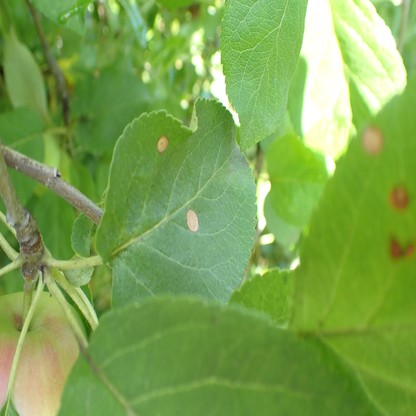frogeye_leaf_spot: (361, 126, 384, 154), (390, 237, 413, 260), (390, 186, 408, 207), (186, 209, 199, 232), (156, 135, 169, 153)
